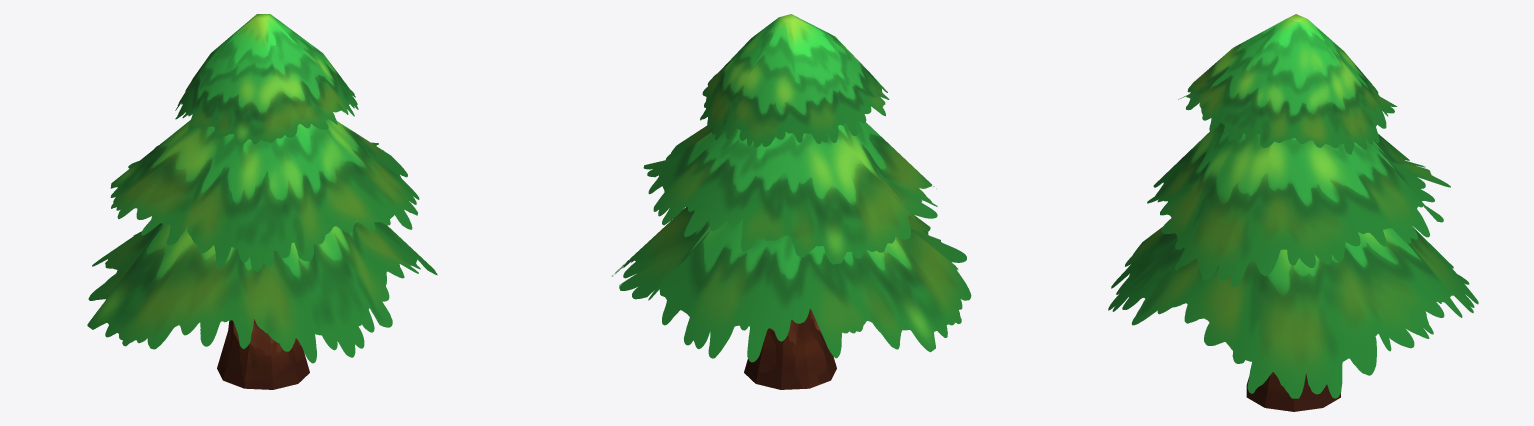
Rendered from Pine_tree.fbx.
3 renders of one model, left to right at view 1: azimuth 30°, elevation 25°; view 2: azimuth 150°, elevation 25°; view 3: azimuth 270°, elevation 25°, orthographic. The views are drawn at different scales.
Visible parts, largest first — view 1: Pine_tree_geo; view 2: Pine_tree_geo; view 3: Pine_tree_geo.
Part boxes in pixels (x1=…): Pine_tree_geo: x1=87, y1=14, x2=437, y2=389; Pine_tree_geo: x1=612, y1=14, x2=971, y2=389; Pine_tree_geo: x1=1108, y1=14, x2=1478, y2=411.
Bounding box in the file's own units: 42.08 × 38.41 × 42.
